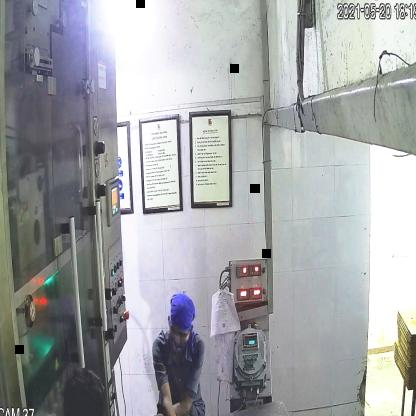goggles: (167, 320, 192, 347)
